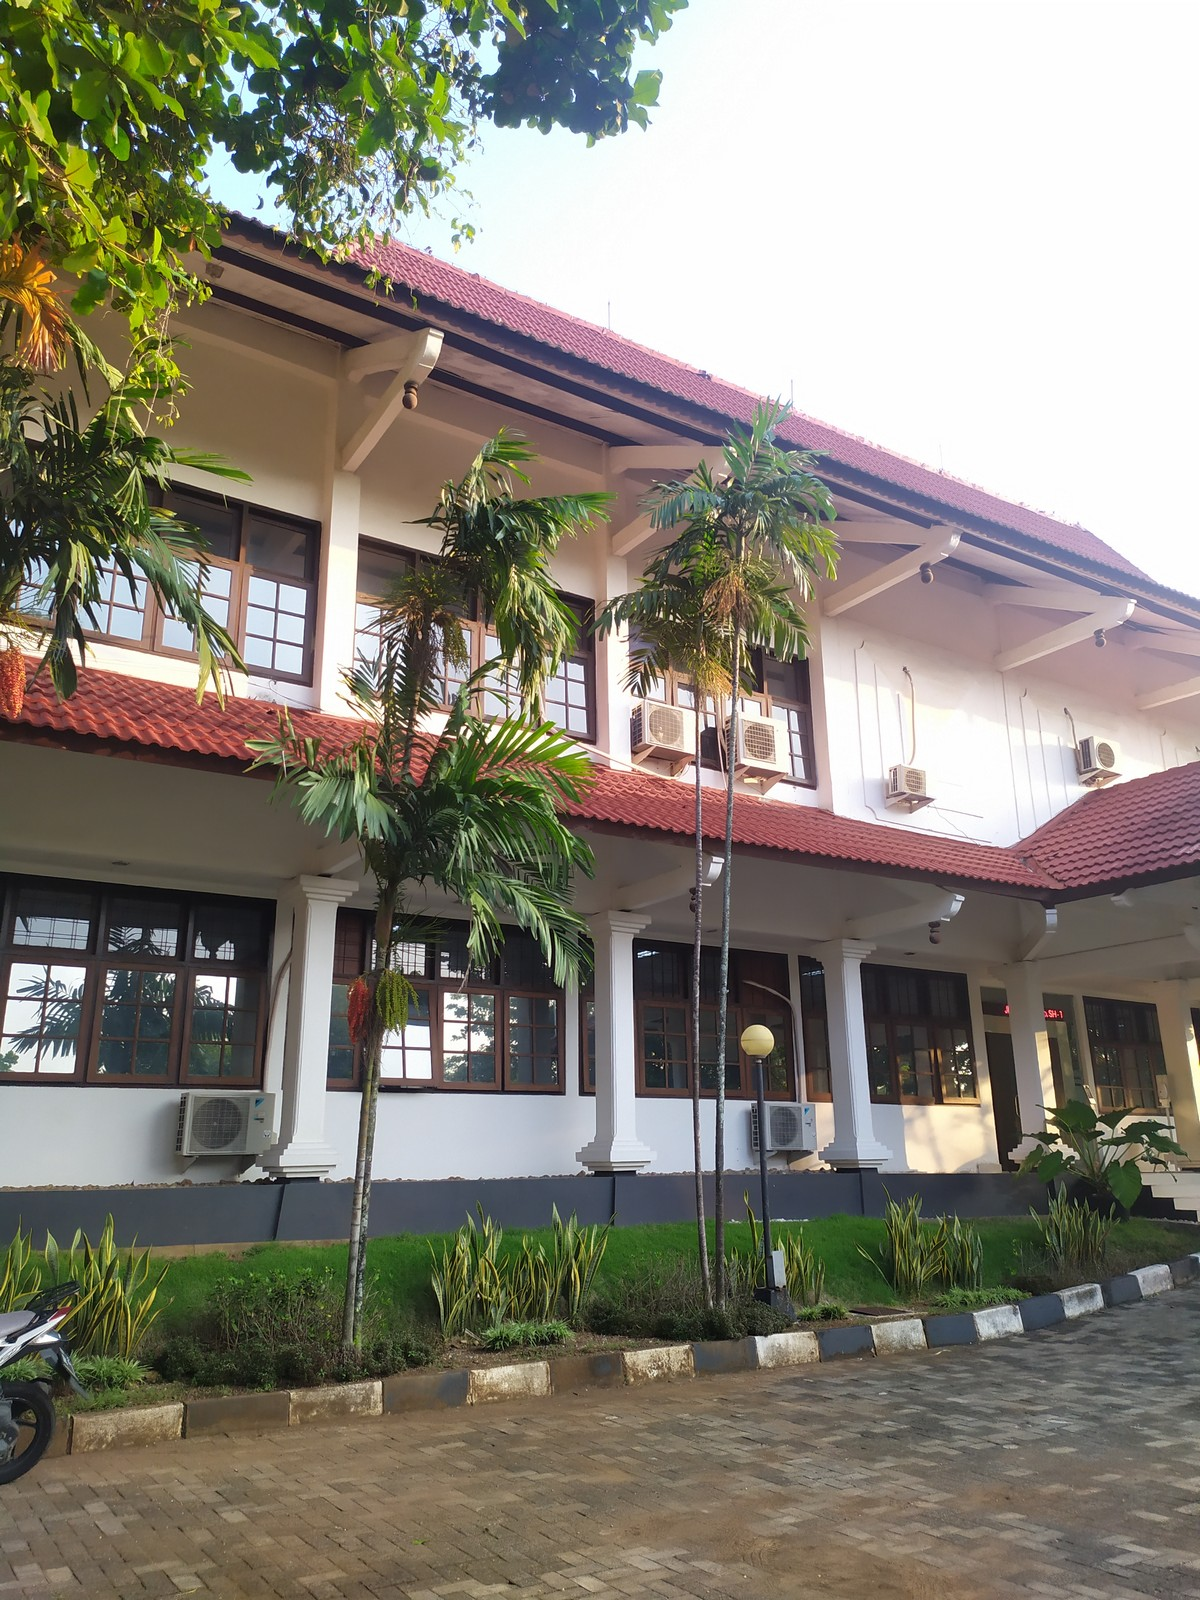concrete column: (310, 417, 371, 712), (277, 893, 344, 1146), (584, 510, 639, 782), (591, 932, 642, 1148), (1011, 960, 1066, 1143), (821, 957, 874, 1146)
